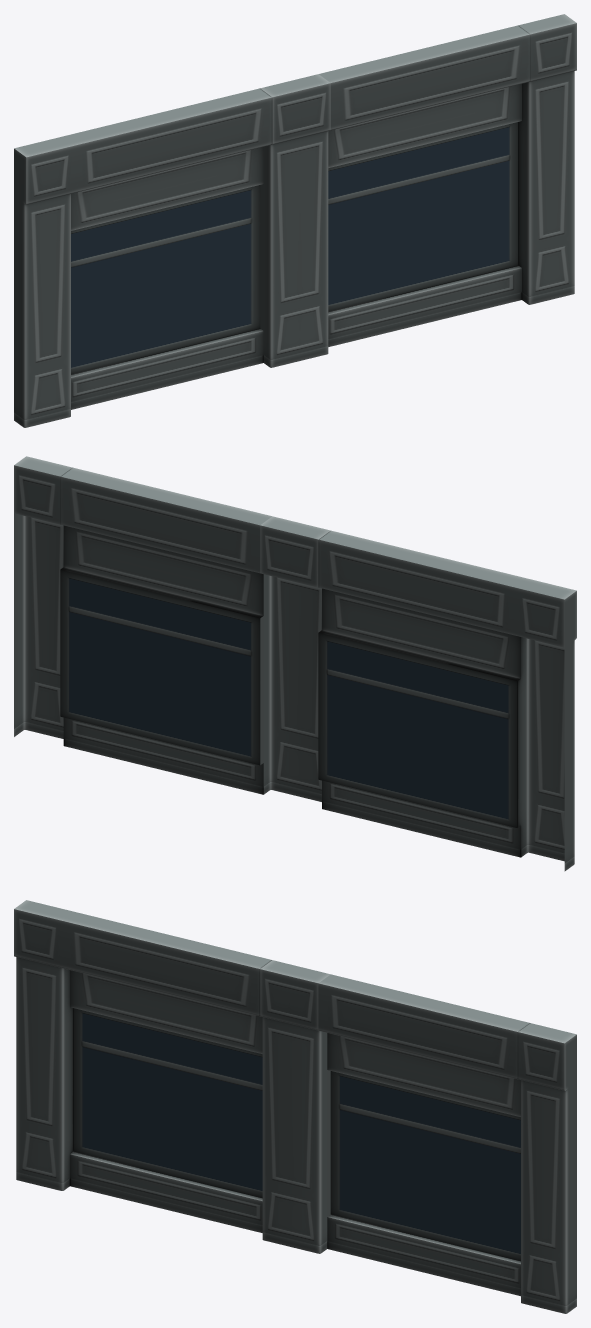
Rendered from StreetStoreFront01_6.FBX.
The picture shows the model from 3 angles, top to bottom: view 1: azimuth 30°, elevation 25°; view 2: azimuth 150°, elevation 25°; view 3: azimuth 330°, elevation 25°; orthographic projection.
Parts seen in each view (by area): view 1: StreetStoreFront01_6; view 2: StreetStoreFront01_6; view 3: StreetStoreFront01_6.
Boxes of the visible parts, left/top/right/bottom form: StreetStoreFront01_6: left=14, top=14, right=576, bottom=427; StreetStoreFront01_6: left=14, top=456, right=576, bottom=871; StreetStoreFront01_6: left=14, top=900, right=576, bottom=1313.
Size of what is drawn, in the model's own units: 9 by 4.25 by 0.35.
